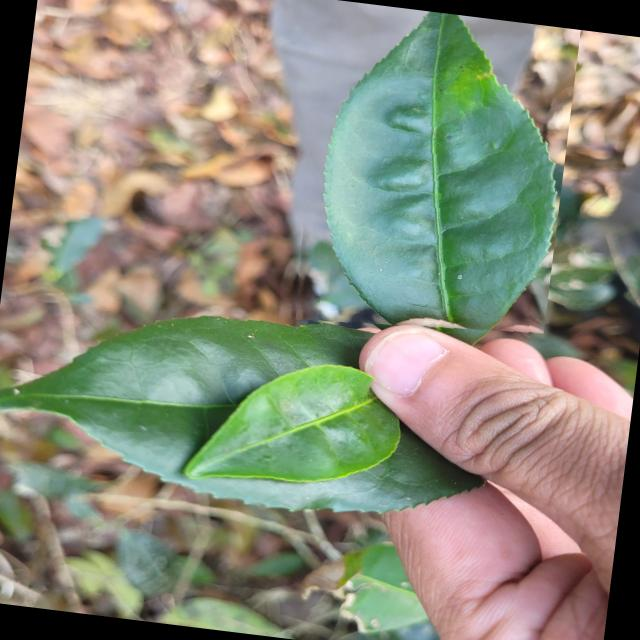Category D 7+ days, Not for Tea: (283, 0, 580, 349)
